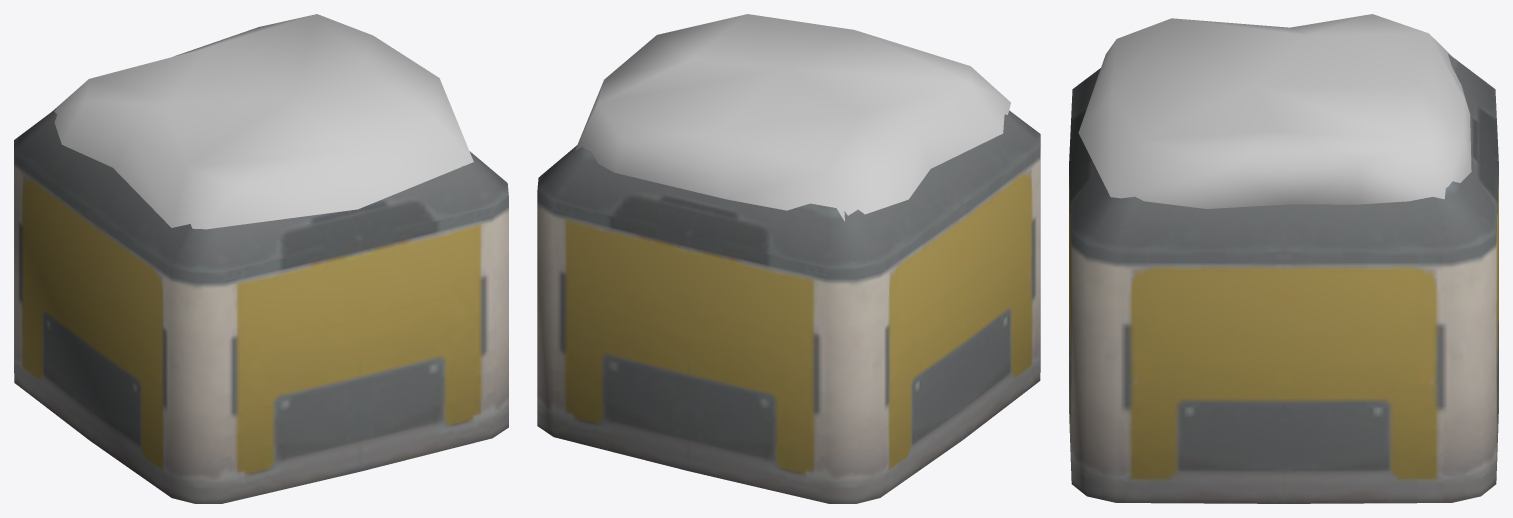
The model's file is pref_sm_city_box01_snow_lv3.fbx.
3 renders of one model, left to right at view 1: azimuth 30°, elevation 25°; view 2: azimuth 150°, elevation 25°; view 3: azimuth 270°, elevation 25°, orthographic. The views are drawn at different scales.
Visible parts, largest first — view 1: sm_city_box01_snow_lv3, sm_city_box01b_snow_lv3; view 2: sm_city_box01_snow_lv3, sm_city_box01b_snow_lv3; view 3: sm_city_box01_snow_lv3, sm_city_box01b_snow_lv3.
Part boxes in pixels (<box>): sm_city_box01_snow_lv3: <box>14,108,508,503</box>; sm_city_box01b_snow_lv3: <box>52,14,473,229</box>; sm_city_box01_snow_lv3: <box>537,110,1040,503</box>; sm_city_box01b_snow_lv3: <box>575,14,1010,221</box>; sm_city_box01_snow_lv3: <box>1069,54,1498,503</box>; sm_city_box01b_snow_lv3: <box>1078,14,1471,208</box>.
Size of the model in its own units: 1.13 by 0.9743 by 1.13.
